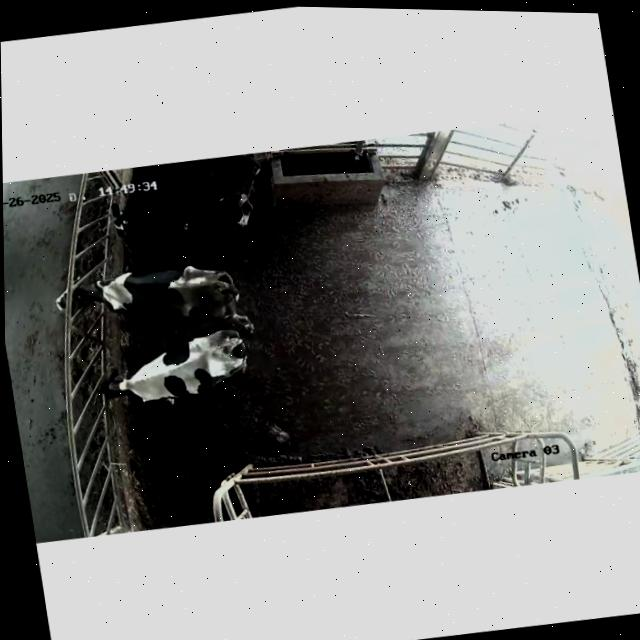eat: (36, 270, 135, 329)
stand: (93, 316, 282, 435), (103, 149, 276, 267)
